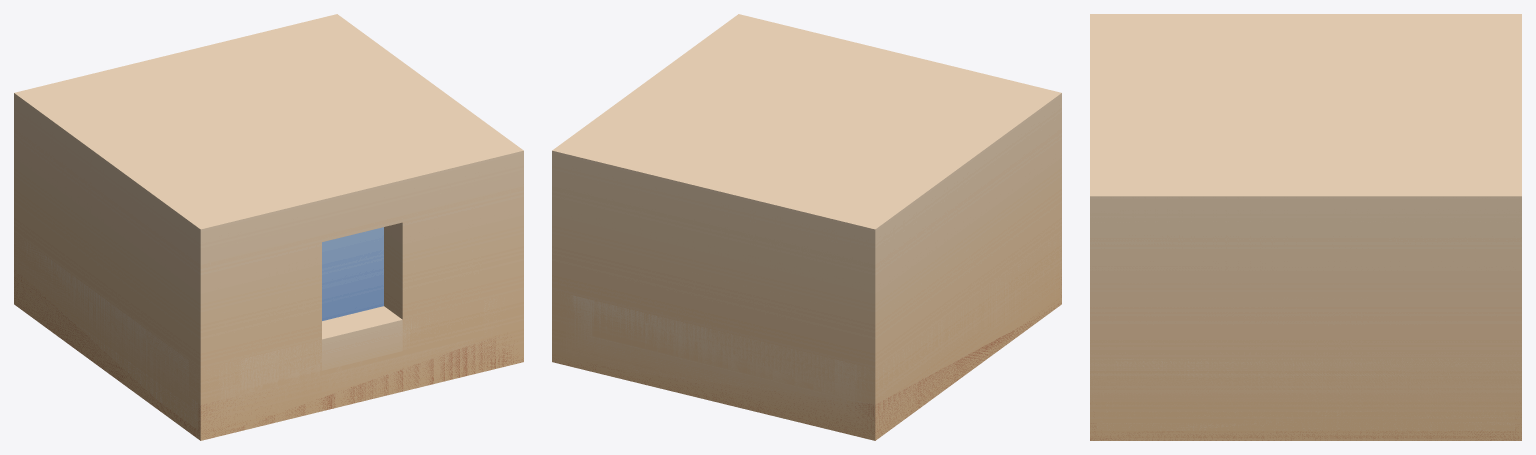
File: kenney-district-kit.glb
The picture shows the model from 3 angles, left to right: view 1: azimuth 30°, elevation 25°; view 2: azimuth 150°, elevation 25°; view 3: azimuth 270°, elevation 25°; orthographic projection. The views are drawn at different scales.
Visible parts, largest first — view 1: building-window-wide, building-door, roof-flat-detail-a, roof-flat-border-straight; view 2: building-window-wide, roof-flat-border-straight, roof-flat-detail-a; view 3: building-window-wide, roof-flat-border-straight, roof-flat-detail-a.
Part boxes in pixels (x1=…): building-window-wide: x1=14, y1=14, x2=523, y2=440; building-door: x1=200, y1=151, x2=523, y2=439; roof-flat-detail-a: x1=14, y1=242, x2=523, y2=440; roof-flat-border-straight: x1=14, y1=235, x2=521, y2=439; building-window-wide: x1=552, y1=14, x2=1061, y2=440; roof-flat-border-straight: x1=552, y1=235, x2=1061, y2=439; roof-flat-detail-a: x1=555, y1=277, x2=1061, y2=440; building-window-wide: x1=1090, y1=14, x2=1521, y2=440; roof-flat-border-straight: x1=1090, y1=358, x2=1521, y2=440; roof-flat-detail-a: x1=1090, y1=358, x2=1521, y2=440.
Size of the model in its own units: 1 by 0.625 by 1.
Materials: 1 (1 with a texture image).
